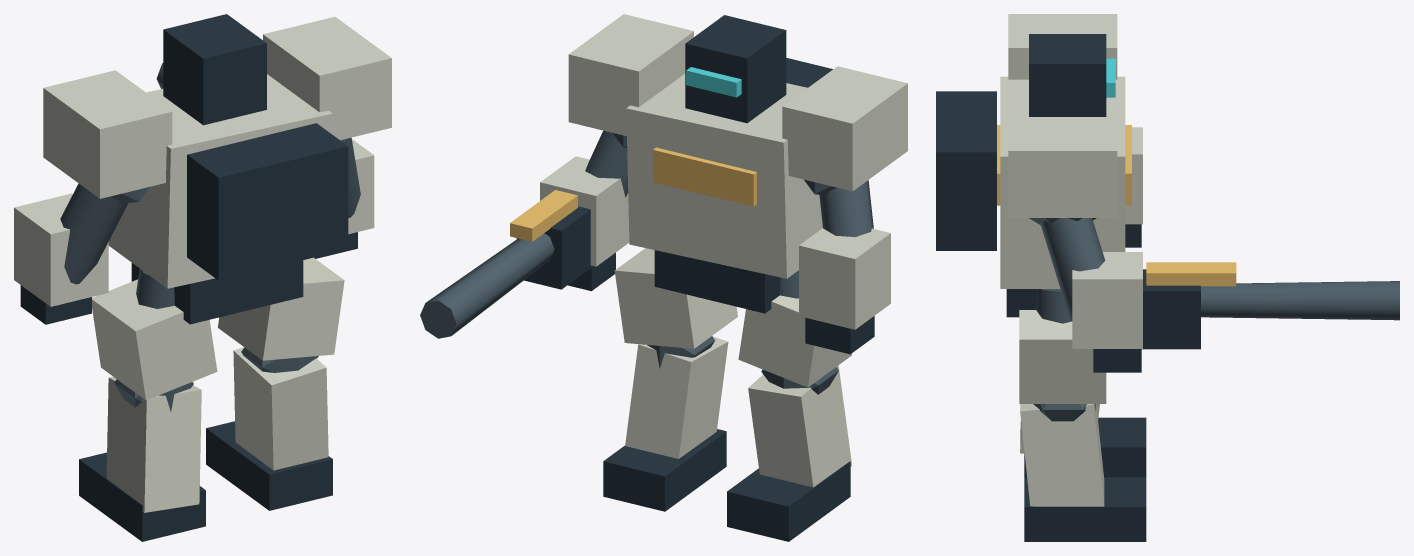
Rendered from frame-everest.glb.
The picture shows the model from 3 angles, left to right: view 1: azimuth 30°, elevation 25°; view 2: azimuth 150°, elevation 25°; view 3: azimuth 270°, elevation 25°; orthographic projection. The views are drawn at different scales.
Visible parts, largest first — view 1: frame-everest; view 2: frame-everest; view 3: frame-everest.
Boxes of the visible parts, x1,y1,x2,y2 form: frame-everest: (14, 14, 391, 541); frame-everest: (420, 14, 907, 541); frame-everest: (936, 14, 1399, 541).
Size of the model in its own units: 1.12 by 1.54 by 1.44.
